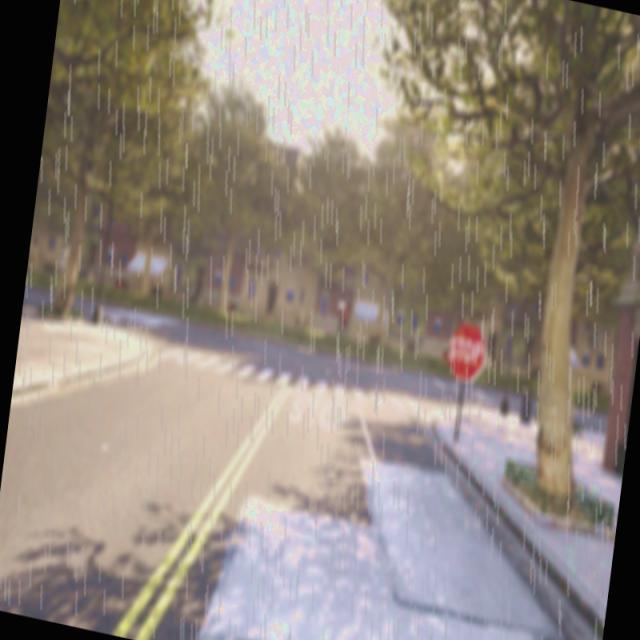stop sign: (445, 320, 488, 383), (448, 334, 482, 366)
